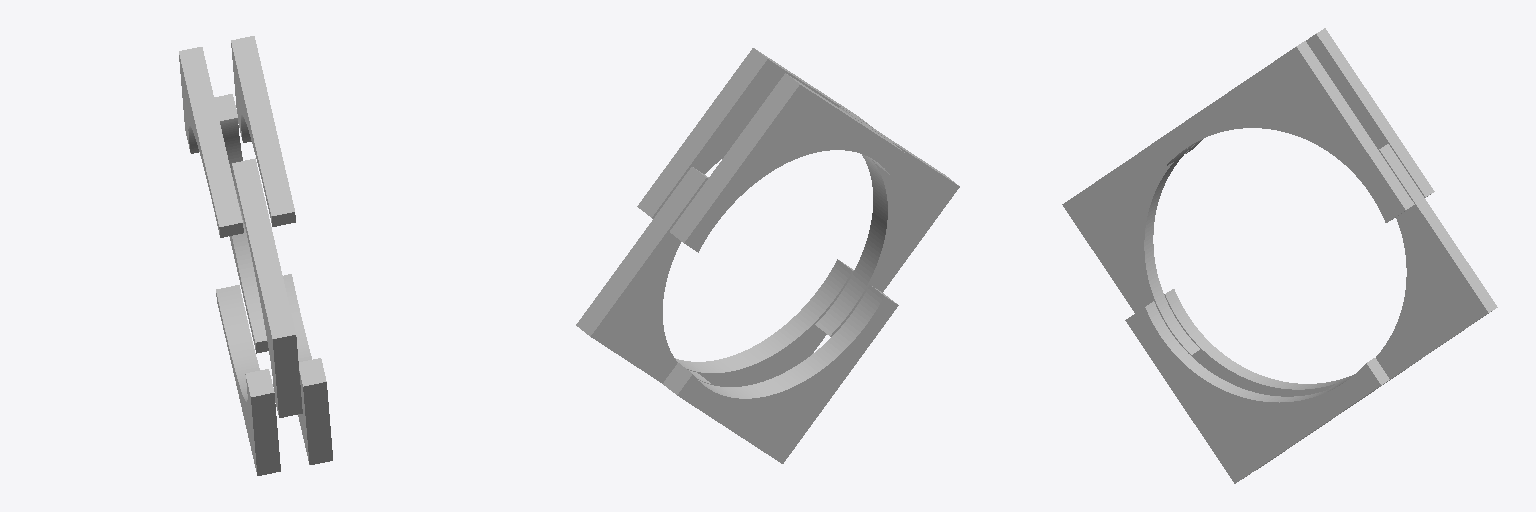
Rendered from Seperated_Ring.obj.
3 renders of one model, left to right at view 1: azimuth 30°, elevation 25°; view 2: azimuth 150°, elevation 25°; view 3: azimuth 270°, elevation 25°, orthographic.
Visible parts, largest first — view 1: OBJ_RING+MODULE.001; view 2: OBJ_RING+MODULE.001; view 3: OBJ_RING+MODULE.001.
Part boxes in pixels (left/top/right/bottom): OBJ_RING+MODULE.001: left=179, top=36, right=332, bottom=475; OBJ_RING+MODULE.001: left=576, top=48, right=959, bottom=463; OBJ_RING+MODULE.001: left=1062, top=28, right=1497, bottom=483.
Bounding box in the file's own units: 4.29 × 9.94 × 9.22.